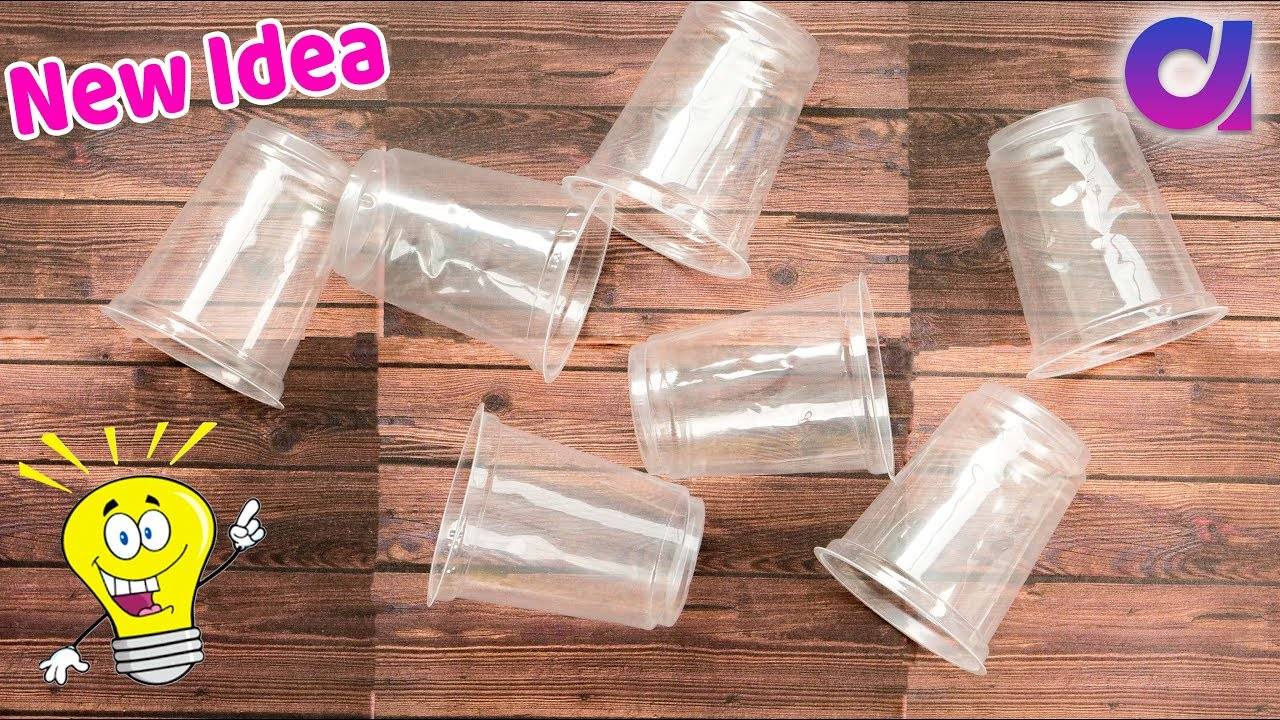plastic_glass: (979, 92, 1252, 401)
